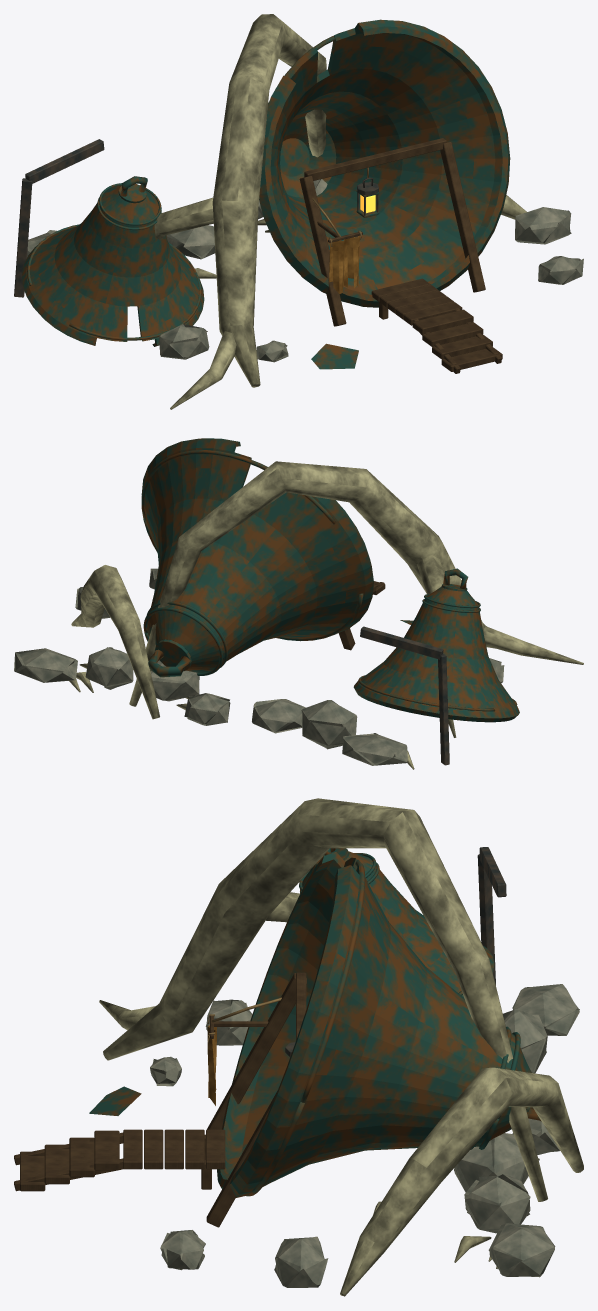
The model's file is bells-assembled-wluMlC8D.glb.
3 views of the same model, one above another, from view 1: azimuth 30°, elevation 25°; view 2: azimuth 150°, elevation 25°; view 3: azimuth 270°, elevation 25° (orthographic). The views are drawn at different scales.
Parts seen in each view (by area): view 1: bells-assembled__LS_bronze, bells-assembled__LS_pale-root, bells-assembled__LS_wood, bells-assembled__LS_stone, bells-assembled__LS_iron, bells-assembled__LS_cloth; view 2: bells-assembled__LS_bronze, bells-assembled__LS_pale-root, bells-assembled__LS_stone, bells-assembled__LS_iron; view 3: bells-assembled__LS_bronze, bells-assembled__LS_pale-root, bells-assembled__LS_stone, bells-assembled__LS_wood, bells-assembled__LS_iron.
Boxes of the visible parts, x1,y1,x2,y2 form: bells-assembled__LS_bronze: (22, 19, 510, 369); bells-assembled__LS_pale-root: (154, 14, 526, 409); bells-assembled__LS_wood: (299, 138, 502, 373); bells-assembled__LS_stone: (17, 179, 583, 362); bells-assembled__LS_iron: (14, 139, 378, 297); bells-assembled__LS_cloth: (329, 235, 359, 293); bells-assembled__LS_bronze: (141, 438, 519, 722); bells-assembled__LS_pale-root: (69, 461, 583, 769); bells-assembled__LS_stone: (14, 568, 504, 765); bells-assembled__LS_iron: (360, 626, 449, 765); bells-assembled__LS_bronze: (89, 848, 541, 1197); bells-assembled__LS_pale-root: (99, 798, 583, 1296); bells-assembled__LS_stone: (150, 984, 579, 1287); bells-assembled__LS_wood: (14, 972, 306, 1227); bells-assembled__LS_iron: (285, 847, 506, 1056).
Size of the model in its own units: 12.71 by 6.18 by 9.65.
8 materials, 7 textured.
